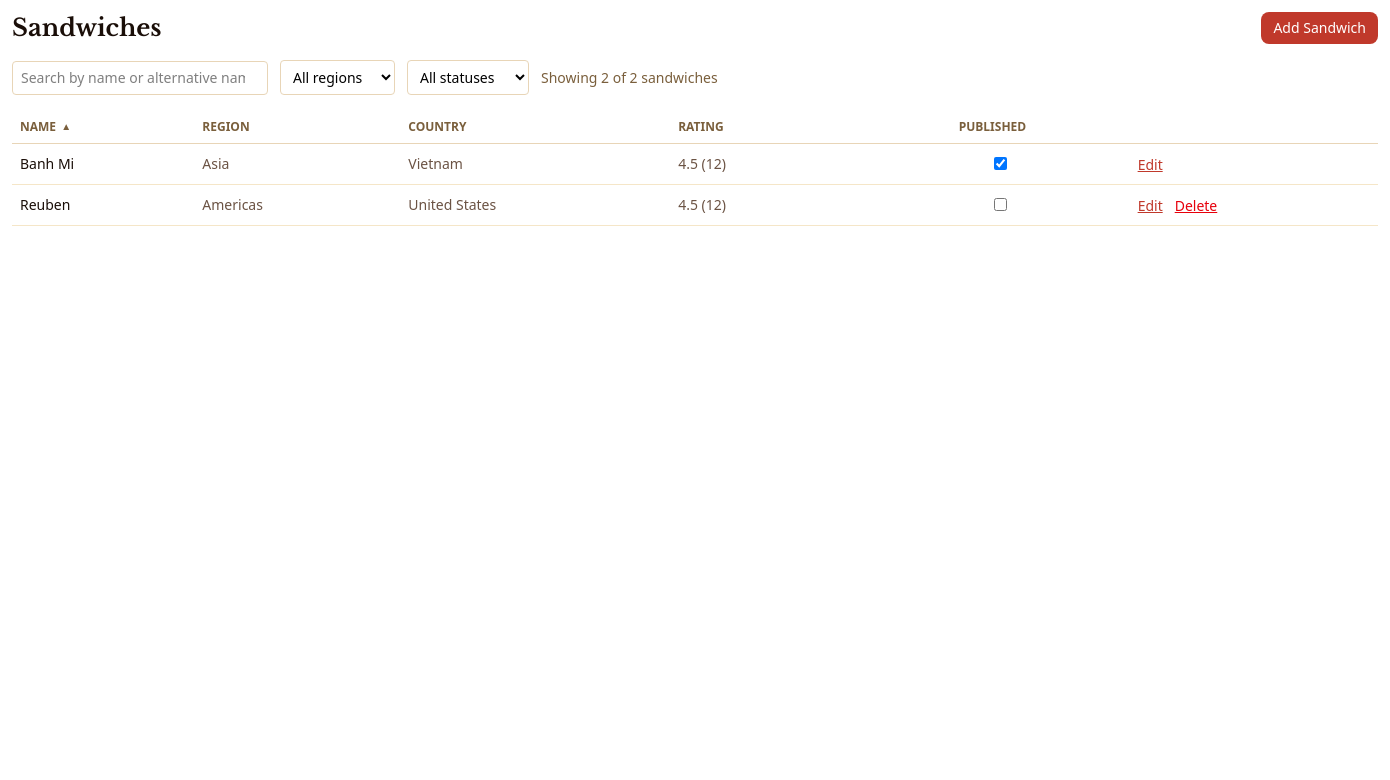
DatabaseManagementPage alternative names › shows the entry alternative names in one comma separated box
Expected: the text "Reuben" is shown, [12,184,194,226]
Click the button with aria-label "Edit Reuben" at (1150, 206), box [1138,196,1163,216]
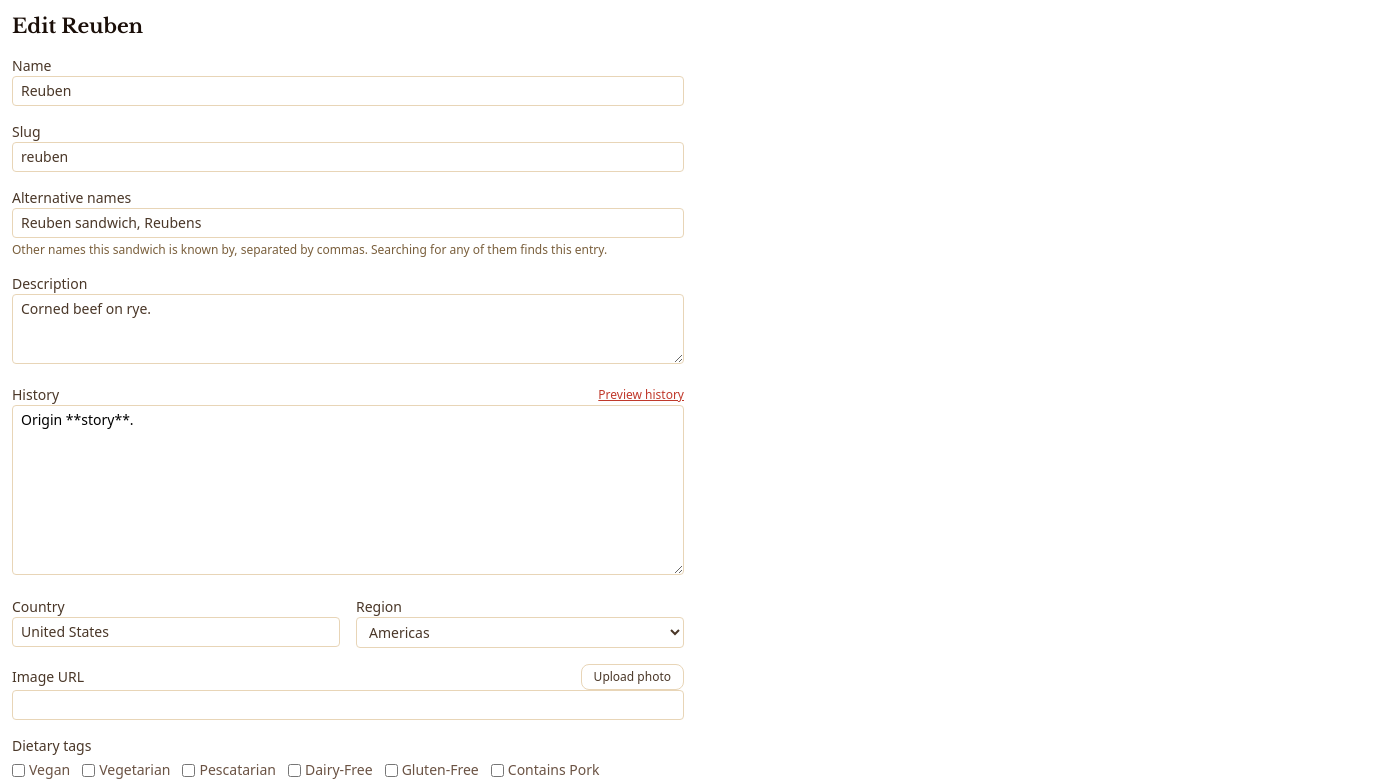
Expected: the field labelled "Alternative names" holds "Reuben sandwich, Reubens", [12,208,684,238]
